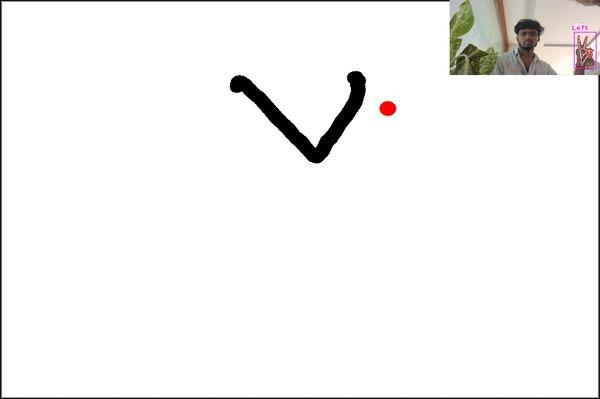V: (225, 65, 373, 171)
